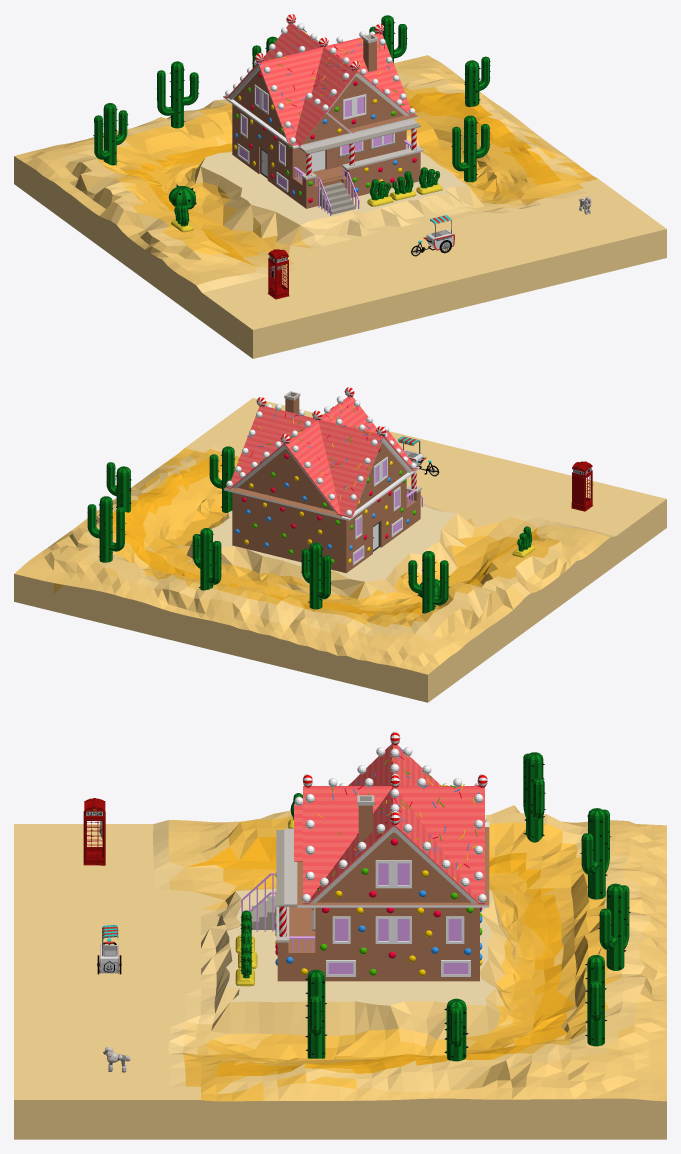
3 renders of one model, top to bottom at view 1: azimuth 30°, elevation 25°; view 2: azimuth 150°, elevation 25°; view 3: azimuth 270°, elevation 25°, orthographic. The views are drawn at different scales.
Parts seen in each view (by area): view 1: Cube.001, Cube.1203, Cylinder.044, Cylinder.037, Cylinder.045, OBJRANDOM_PHONEBOOTH, Cylinder.038, VEHICLES_SNOWBAL_BIKE, Cylinder.042, Cylinder.039, Cylinder.041; view 2: Cube.001, Cube.1203, Cylinder.042, Cylinder.045, Cylinder.044, Cylinder.043, Cylinder.037, OBJRANDOM_PHONEBOOTH, Cylinder.038, VEHICLES_SNOWBAL_BIKE; view 3: Cube.001, Cube.1203, Cylinder.043, Cylinder.044, Cylinder.045, Cylinder.037, Cylinder.042, OBJRANDOM_PHONEBOOTH, Cylinder.038, VEHICLES_SNOWBAL_BIKE, Cylinder.041.
Boxes of the visible parts, x1=… form: Cube.001: x1=14, y1=55, x2=666, y2=358; Cube.1203: x1=223, y1=14, x2=423, y2=215; Cylinder.044: x1=157, y1=61, x2=199, y2=128; Cylinder.037: x1=451, y1=115, x2=489, y2=182; Cylinder.045: x1=93, y1=103, x2=128, y2=165; OBJRANDOM_PHONEBOOTH: x1=267, y1=249, x2=289, y2=299; Cylinder.038: x1=464, y1=56, x2=490, y2=106; VEHICLES_SNOWBAL_BIKE: x1=411, y1=215, x2=454, y2=256; Cylinder.042: x1=369, y1=15, x2=407, y2=63; Cylinder.039: x1=367, y1=179, x2=393, y2=206; Cylinder.041: x1=416, y1=167, x2=442, y2=194; Cube.001: x1=14, y1=398, x2=666, y2=702; Cube.1203: x1=224, y1=387, x2=422, y2=573; Cylinder.042: x1=87, y1=496, x2=125, y2=562; Cylinder.045: x1=408, y1=551, x2=449, y2=613; Cylinder.044: x1=301, y1=542, x2=331, y2=609; Cylinder.043: x1=192, y1=528, x2=221, y2=590; Cylinder.037: x1=209, y1=446, x2=239, y2=512; OBJRANDOM_PHONEBOOTH: x1=571, y1=461, x2=593, y2=511; Cylinder.038: x1=106, y1=462, x2=131, y2=512; VEHICLES_SNOWBAL_BIKE: x1=398, y1=436, x2=439, y2=476; Cube.001: x1=14, y1=805, x2=666, y2=1139; Cube.1203: x1=241, y1=731, x2=489, y2=981; Cylinder.043: x1=598, y1=883, x2=630, y2=970; Cylinder.044: x1=580, y1=808, x2=610, y2=899; Cylinder.045: x1=523, y1=752, x2=545, y2=842; Cylinder.037: x1=305, y1=969, x2=326, y2=1058; Cylinder.042: x1=585, y1=955, x2=606, y2=1046; OBJRANDOM_PHONEBOOTH: x1=83, y1=798, x2=105, y2=865; Cylinder.038: x1=444, y1=998, x2=468, y2=1061; VEHICLES_SNOWBAL_BIKE: x1=97, y1=925, x2=121, y2=974; Cylinder.041: x1=235, y1=943, x2=254, y2=986.
Bounding box in the file's own units: 4002 × 1628 × 4001.
Materials: 44 (3 with a texture image).
